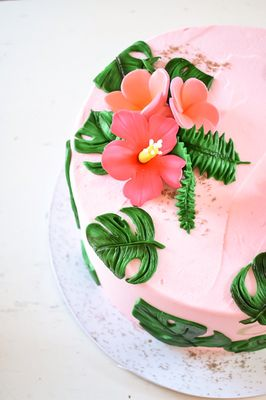soup: (62, 84, 266, 378)
